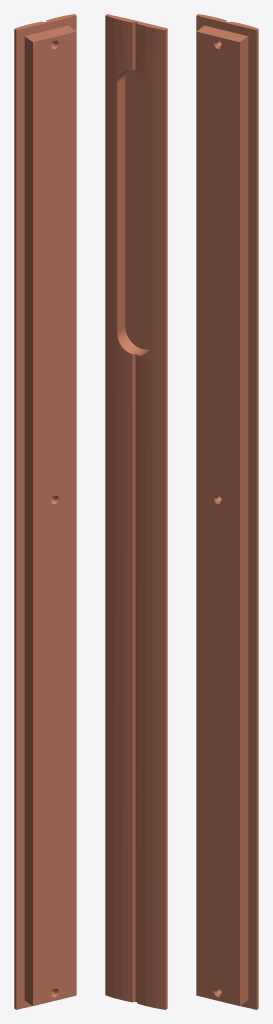
File: mallard pvd r gold.glb
The picture shows the model from 3 angles, left to right: view 1: azimuth 30°, elevation 25°; view 2: azimuth 150°, elevation 25°; view 3: azimuth 330°, elevation 25°; orthographic projection.
Visible parts, largest first — view 1: CONCEAL HANDLE_MALLARD; view 2: CONCEAL HANDLE_MALLARD; view 3: CONCEAL HANDLE_MALLARD.
Part boxes in pixels (x1,y1,x2,y2): CONCEAL HANDLE_MALLARD: (14, 14, 76, 1009); CONCEAL HANDLE_MALLARD: (105, 14, 167, 1009); CONCEAL HANDLE_MALLARD: (196, 14, 258, 1009).
Bounding box in the file's own units: 1.07 × 16.65 × 0.35.
